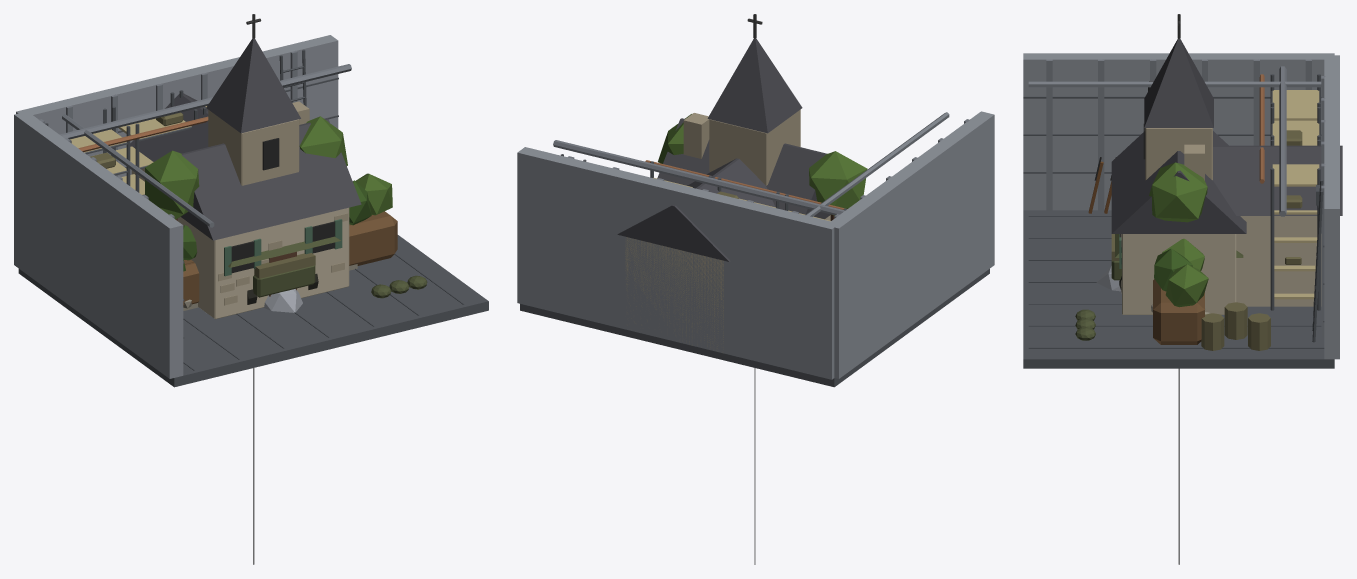
File: d-day.glb
The picture shows the model from 3 angles, left to right: view 1: azimuth 30°, elevation 25°; view 2: azimuth 150°, elevation 25°; view 3: azimuth 270°, elevation 25°; orthographic projection.
Parts seen in each view (by area): view 1: hold_interior, norman_house, church_steeple, hedgerow, jeep_ambulance, barrage_balloon, aid_tent; view 2: hold_interior, church_steeple, norman_house, hedgerow; view 3: hold_interior, church_steeple, norman_house, hedgerow, barrage_balloon.
Part boxes in pixels (bbox=[...]): hold_interior: bbox=[14, 35, 488, 387]; norman_house: bbox=[178, 101, 361, 319]; church_steeple: bbox=[130, 14, 300, 185]; hedgerow: bbox=[145, 116, 397, 305]; jeep_ambulance: bbox=[247, 253, 318, 304]; barrage_balloon: bbox=[253, 289, 302, 564]; aid_tent: bbox=[228, 236, 340, 267]; hold_interior: bbox=[517, 111, 994, 387]; church_steeple: bbox=[617, 14, 802, 353]; norman_house: bbox=[657, 113, 830, 220]; hedgerow: bbox=[658, 114, 867, 220]; hold_interior: bbox=[1023, 53, 1339, 368]; church_steeple: bbox=[1143, 14, 1342, 306]; norman_house: bbox=[1111, 131, 1246, 314]; hedgerow: bbox=[1149, 162, 1208, 344]; barrage_balloon: bbox=[1096, 265, 1179, 564].
Bounding box in the file's own units: 7.1 × 11.7 × 6.15.
